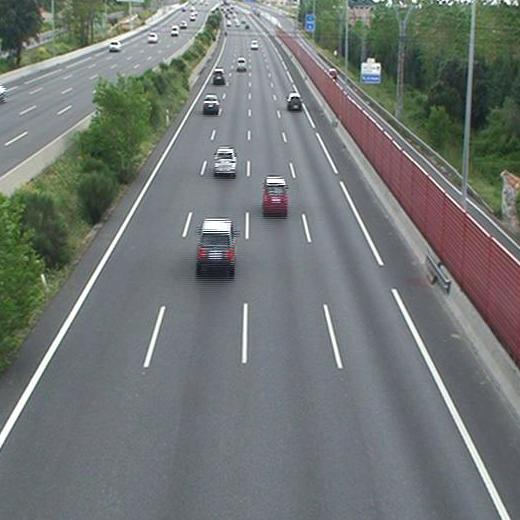car: (198, 219, 234, 268), (263, 177, 288, 211), (213, 149, 236, 172), (203, 95, 219, 112), (287, 95, 302, 110), (213, 69, 225, 84), (236, 58, 246, 71), (250, 40, 258, 50)
